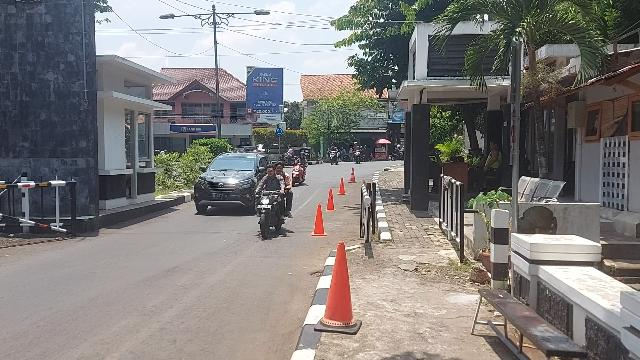helm: (301, 153, 306, 159)
motor: (253, 188, 289, 240), (292, 162, 310, 188)
non-helm: (277, 163, 286, 176), (267, 166, 277, 177)
